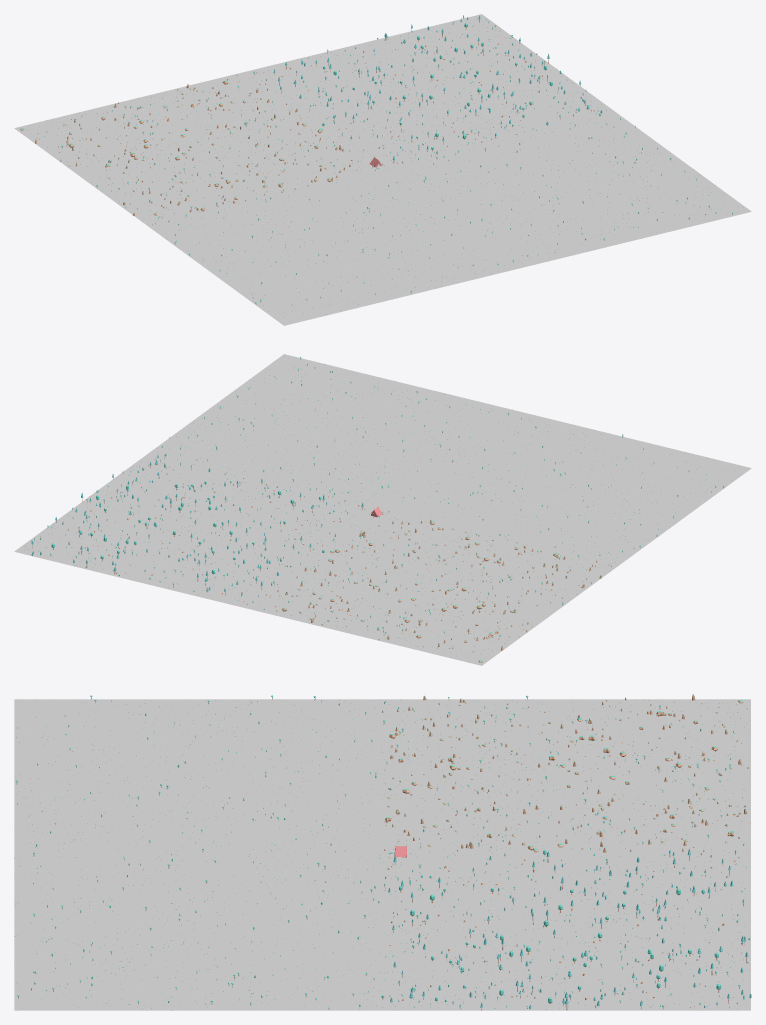
The model's file is map1.glb.
The picture shows the model from 3 angles, top to bottom: view 1: azimuth 30°, elevation 25°; view 2: azimuth 150°, elevation 25°; view 3: azimuth 270°, elevation 25°; orthographic projection. The views are drawn at different scales.
Parts seen in each view (by area): view 1: Biome - Extras 1, Biome - Forest 1, Biome - Rock 1; view 2: Biome - Extras 1, Biome - Forest 1, Biome - Rock 1; view 3: Biome - Extras 1, Biome - Rock 1, Biome - Forest 1.
Boxes of the visible parts, box(x1,y1,x2,y2) form: Biome - Extras 1: box(15, 14, 751, 325); Biome - Forest 1: box(248, 14, 616, 169); Biome - Rock 1: box(14, 71, 382, 226); Biome - Extras 1: box(15, 354, 751, 665); Biome - Forest 1: box(14, 453, 381, 608); Biome - Rock 1: box(248, 510, 615, 665); Biome - Extras 1: box(14, 699, 750, 1010); Biome - Rock 1: box(382, 699, 750, 851); Biome - Forest 1: box(382, 856, 750, 1010).
Bounding box in the file's own units: 200 × 4.13 × 200.
